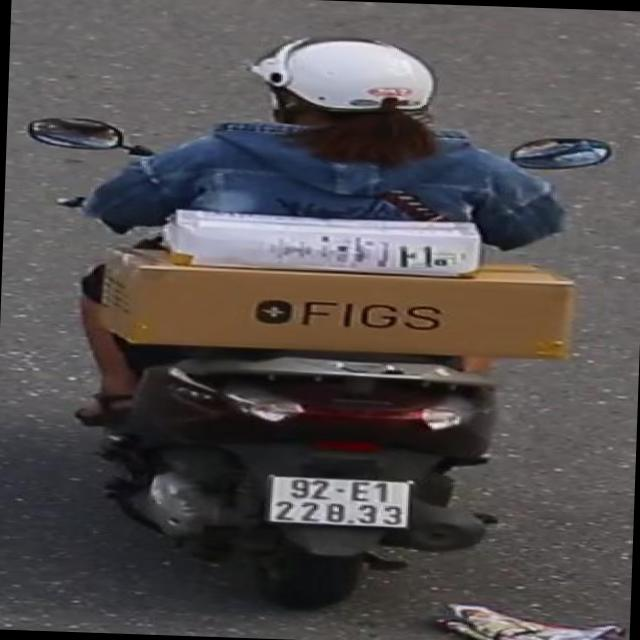LP: (260, 469, 419, 534)
helmet: (247, 29, 449, 146)
